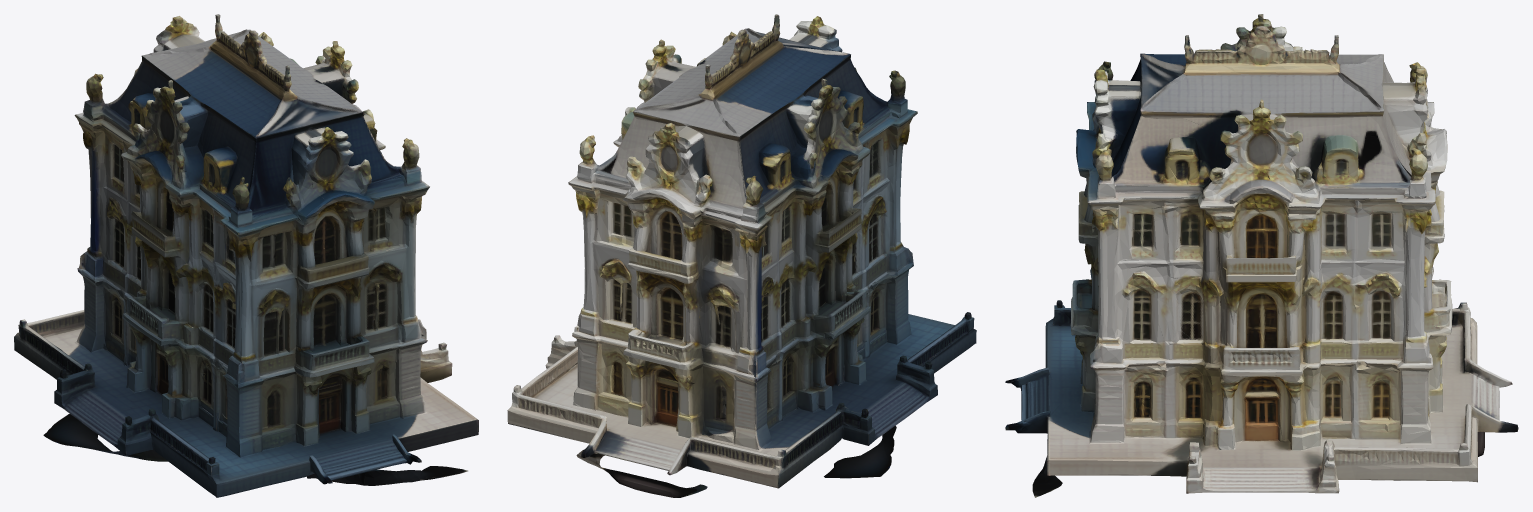
Rendered from generated_model_6f1b046e.glb.
The picture shows the model from 3 angles, left to right: view 1: azimuth 30°, elevation 25°; view 2: azimuth 150°, elevation 25°; view 3: azimuth 270°, elevation 25°; orthographic projection. The views are drawn at different scales.
Parts seen in each view (by area): view 1: world; view 2: world; view 3: world.
Boxes of the visible parts, left/top/right/bottom form: world: left=14, top=14, right=478, bottom=497; world: left=507, top=14, right=976, bottom=497; world: left=1005, top=14, right=1518, bottom=497.
Size of the model in its own units: 0.8177 by 0.9019 by 1.
1 material, 1 textured.
